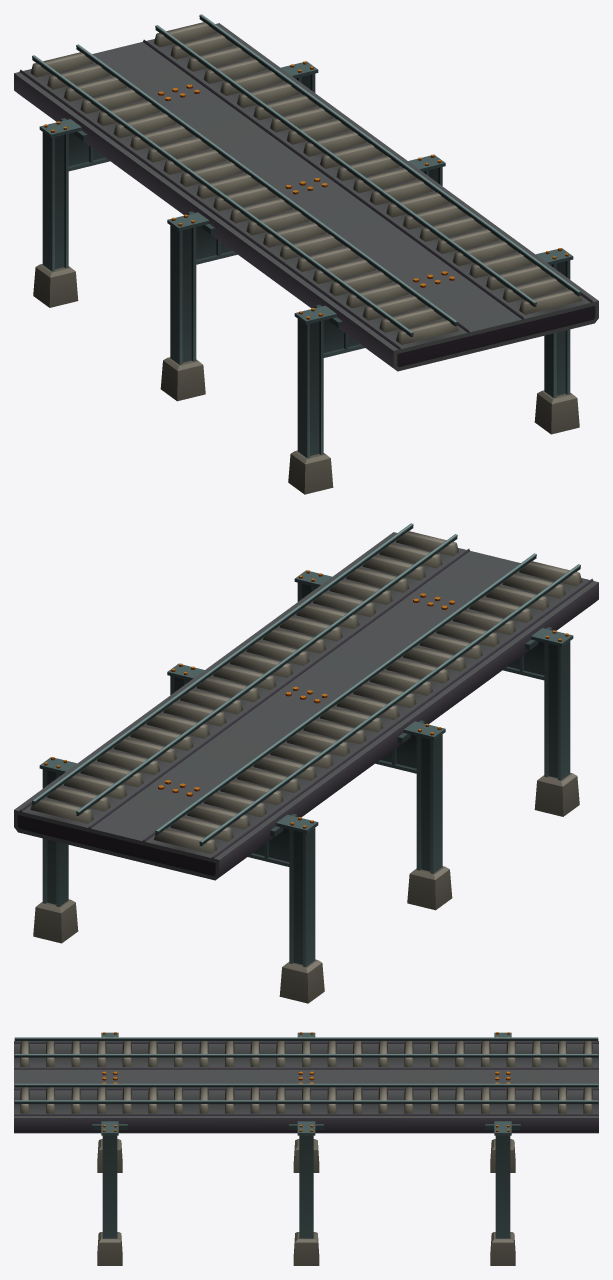
File: Train_Tracks_Suspended_1A.fbx
3 renders of one model, top to bottom at view 1: azimuth 30°, elevation 25°; view 2: azimuth 150°, elevation 25°; view 3: azimuth 270°, elevation 25°, orthographic. The views are drawn at different scales.
Parts seen in each view (by area): view 1: Train_Tracks_Suspended_1A; view 2: Train_Tracks_Suspended_1A; view 3: Train_Tracks_Suspended_1A.
Part boxes in pixels (x1,y1,x2,y2): Train_Tracks_Suspended_1A: (14,14,598,494); Train_Tracks_Suspended_1A: (14,523,598,1003); Train_Tracks_Suspended_1A: (14,1032,598,1265).
Bounding box in the file's own units: 13.39 × 8.75 × 32.
